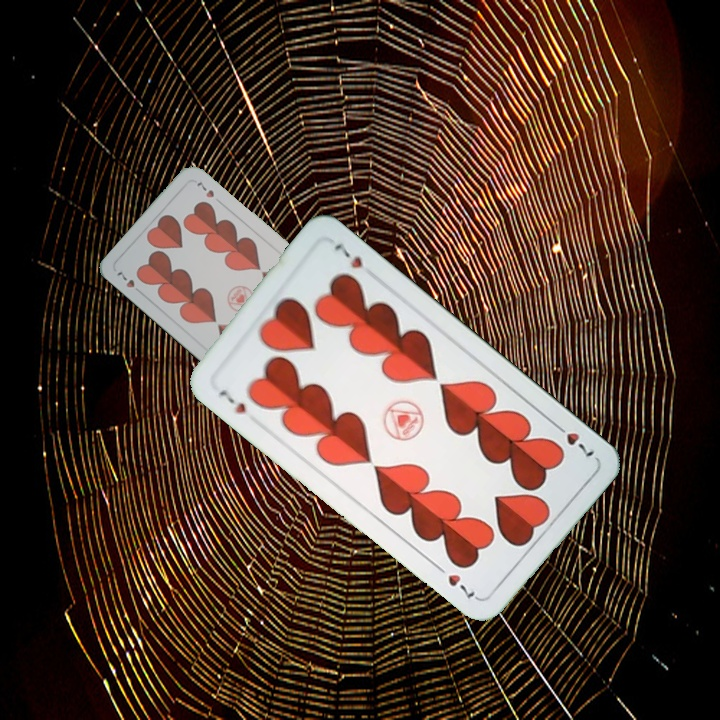H7: (549, 418, 598, 460), (215, 383, 249, 417), (112, 267, 146, 296)
